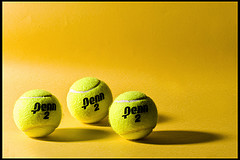tennis ball: (108, 91, 160, 142), (13, 89, 62, 140), (66, 76, 114, 125)
